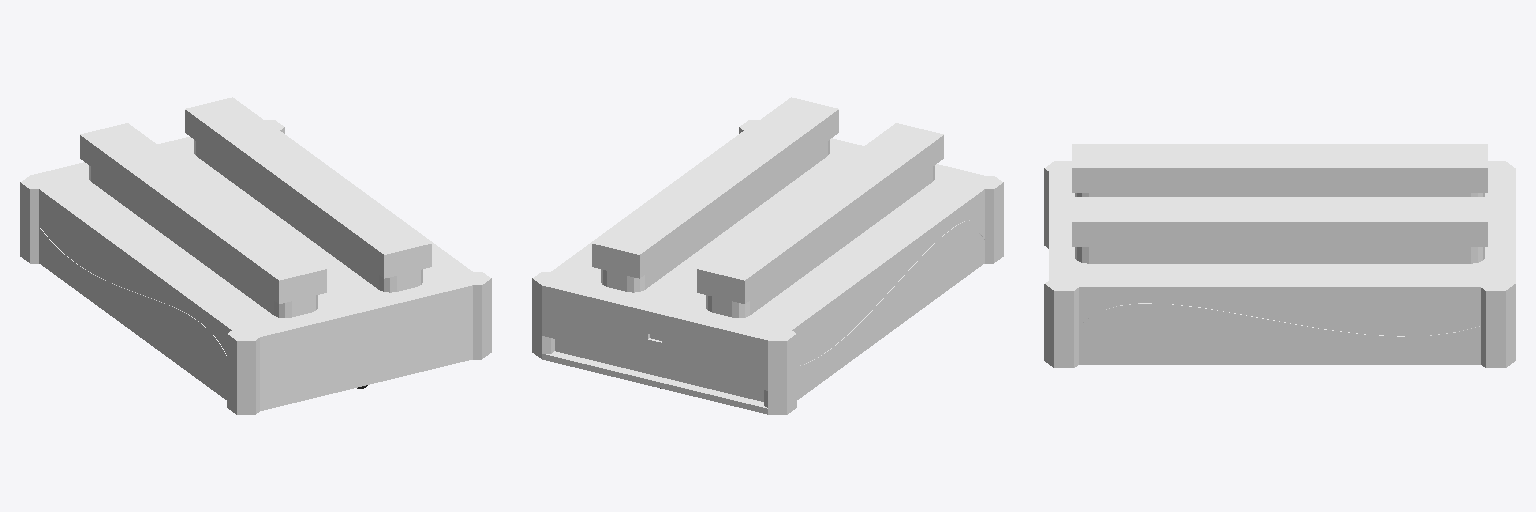
URDF robot description (robot_urdf):
<?xml version="1.0" encoding="utf-8"?>
<!-- This URDF was automatically created by SolidWorks to URDF Exporter! Originally created by [author] ([email redacted]) 
     Commit Version: 1.5.1-0-g916b5db  Build Version: 1.5.7152.31018
     For more information, please see http://wiki.ros.org/sw_urdf_exporter -->
<robot
  name="robot_urdf">
  <link
    name="base_link">
    <inertial>
      <origin
        xyz="-0.022501 0.03264 0.1665"
        rpy="0 0 0" />
      <mass
        value="75.231" />
      <inertia
        ixx="14.838"
        ixy="0.0052526"
        ixz="-0.0049976"
        iyy="6.8"
        iyz="0.060805"
        izz="19.798" />
    </inertial>
    <visual>
      <origin
        xyz="0 0 0"
        rpy="0 0 0" />
      <geometry>
        <mesh
          filename="package://robot_urdf/meshes/base_Link.dae" />
      </geometry>
      <material
        name="">
        <color
          rgba="1 1 1 1" />
      </material>
    </visual>
    <collision>
      <origin
        xyz="0 0 0"
        rpy="0 0 0" />
      <geometry>
        <mesh
          filename="package://robot_urdf/meshes/base_Link.dae" />
      </geometry>
    </collision>
  </link>
  <link
    name="R_W_Link">
    <inertial>
      <origin
        xyz="0 0 0.075"
        rpy="0 0 0" />
      <mass
        value="3.6702" />
      <inertia
        ixx="0.012253"
        ixy="4.3368E-19"
        ixz="2.8934E-19"
        iyy="0.012253"
        iyz="-1.3989E-19"
        izz="0.018211" />
    </inertial>
    <visual>
      <origin
        xyz="0 0 0"
        rpy="0 0 0" />
      <geometry>
        <mesh
          filename="package://robot_urdf/meshes/R_W_Link.STL" />
      </geometry>
      <material
        name="">
        <color
          rgba="0.29804 0.29804 0.29804 1" />
      </material>
    </visual>
    <collision>
      <origin
        xyz="0 0 0"
        rpy="0 0 0" />
      <geometry>
        <mesh
          filename="package://robot_urdf/meshes/R_W_Link.STL" />
      </geometry>
    </collision>
  </link>
  <joint
    name="R_W"
    type="continuous">
    <origin
      xyz="0.20256 0.015054 0.1"
      rpy="1.5708 0.47816 1.5708" />
    <parent
      link="base_link" />
    <child
      link="R_W_Link" />
    <axis
      xyz="0 0 -1" />
  </joint>
  <link
    name="L_W_Link">
    <inertial>
      <origin
        xyz="4.1633E-17 -3.1225E-17 -0.075"
        rpy="0 0 0" />
      <mass
        value="3.6702" />
      <inertia
        ixx="0.012253"
        ixy="-4.3368E-19"
        ixz="8.5115E-19"
        iyy="0.012253"
        iyz="3.4366E-19"
        izz="0.018211" />
    </inertial>
    <visual>
      <origin
        xyz="0 0 0"
        rpy="0 0 0" />
      <geometry>
        <mesh
          filename="package://robot_urdf/meshes/L_W_Link.STL" />
      </geometry>
      <material
        name="">
        <color
          rgba="0.29804 0.29804 0.29804 1" />
      </material>
    </visual>
    <collision>
      <origin
        xyz="0 0 0"
        rpy="0 0 0" />
      <geometry>
        <mesh
          filename="package://robot_urdf/meshes/L_W_Link.STL" />
      </geometry>
    </collision>
  </link>
  <joint
    name="L_W"
    type="continuous">
    <origin
      xyz="-0.24744 0.015054 0.1"
      rpy="1.5708 1.3637 1.5708" />
    <parent
      link="base_link" />
    <child
      link="L_W_Link" />
    <axis
      xyz="0 0 -1" />
  </joint>
  <link
    name="F_B_Link">
    <inertial>
      <origin
        xyz="0.0067551 0.00073425 0.024059"
        rpy="0 0 0" />
      <mass
        value="0.075869" />
      <inertia
        ixx="1.8967E-05"
        ixy="3.7058E-22"
        ixz="0"
        iyy="1.8967E-05"
        iyz="0"
        izz="1.8967E-05" />
    </inertial>
    <visual>
      <origin
        xyz="0 0 0"
        rpy="0 0 0" />
      <geometry>
        <mesh
          filename="package://robot_urdf/meshes/F_B_Link.STL" />
      </geometry>
      <material
        name="">
        <color
          rgba="0.29804 0.29804 0.29804 1" />
      </material>
    </visual>
    <collision>
      <origin
        xyz="0 0 0"
        rpy="0 0 0" />
      <geometry>
        <mesh
          filename="package://robot_urdf/meshes/F_B_Link.STL" />
      </geometry>
    </collision>
  </link>
  <joint
    name="F_B"
    type="fixed">
    <origin
      xyz="-0.022436 0.65449 0"
      rpy="0.03051 -0.2736 -0.024957" />
    <parent
      link="base_link" />
    <child
      link="F_B_Link" />
    <axis
      xyz="0.2702 0.02937 0.96236" />
  </joint>
  <link
    name="B_B_Link">
    <inertial>
      <origin
        xyz="0.0022702 0.0049124 0.024407"
        rpy="0 0 0" />
      <mass
        value="0.075869" />
      <inertia
        ixx="1.8967E-05"
        ixy="1.8529E-22"
        ixz="-1.0588E-22"
        iyy="1.8967E-05"
        iyz="-1.0588E-21"
        izz="1.8967E-05" />
    </inertial>
    <visual>
      <origin
        xyz="0 0 0"
        rpy="0 0 0" />
      <geometry>
        <mesh
          filename="package://robot_urdf/meshes/B_B_Link.STL" />
      </geometry>
      <material
        name="">
        <color
          rgba="0.29804 0.29804 0.29804 1" />
      </material>
    </visual>
    <collision>
      <origin
        xyz="0 0 0"
        rpy="0 0 0" />
      <geometry>
        <mesh
          filename="package://robot_urdf/meshes/B_B_Link.STL" />
      </geometry>
    </collision>
  </link>
  <joint
    name="B_B"
    type="fixed">
    <origin
      xyz="-0.022436 -0.62438 0"
      rpy="0.19862 -0.090934 0.1036" />
    <parent
      link="base_link" />
    <child
      link="B_B_Link" />
    <axis
      xyz="0.090809 0.1965 0.97629" />
  </joint>
  <link
    name="PISTON_Link">
    <inertial>
      <origin
        xyz="-1.7347E-17 1.3357E-16 0.055782"
        rpy="0 0 0" />
      <mass
        value="14.212" />
      <inertia
        ixx="1.9521"
        ixy="1.0607E-16"
        ixz="-2.6529E-18"
        iyy="0.066675"
        iyz="-4.5969E-17"
        izz="2.0018" />
    </inertial>
    <visual>
      <origin
        xyz="0 0 0"
        rpy="0 0 0" />
      <geometry>
        <mesh
          filename="package://robot_urdf/meshes/PISTON_Link.dae" />
      </geometry>
      <material
        name="">
        <color
          rgba="1 1 1 1" />
      </material>
    </visual>
    <collision>
      <origin
        xyz="0 0 0"
        rpy="0 0 0" />
      <geometry>
        <mesh
          filename="package://robot_urdf/meshes/PISTON_Link.dae" />
      </geometry>
    </collision>
  </link>
  <joint
    name="PISTON"
    type="prismatic">
    <origin
      xyz="-0.022436 0.015054 0.335"
      rpy="0 0 0" />
    <parent
      link="base_link" />
    <child
      link="PISTON_Link" />
    <axis
      xyz="0 0 1" />
    <limit
      lower="-0.06"
      upper="0.05"
      effort="1000E+06"
      velocity="1000E+06" />
  </joint>
  <link
    name="F_Grip_Link">
    <inertial>
      <origin
        xyz="-2.498E-16 -2.4321E-15 0.075"
        rpy="0 0 0" />
      <mass
        value="3" />
      <inertia
        ixx="0.0057813"
        ixy="-2.7064E-19"
        ixz="-4.3946E-19"
        iyy="0.008125"
        iyz="-4.4046E-19"
        izz="0.0026563" />
    </inertial>
    <visual>
      <origin
        xyz="0 0 0"
        rpy="0 0 0" />
      <geometry>
        <mesh
          filename="package://robot_urdf/meshes/F_Grip_Link.STL" />
      </geometry>
      <material
        name="">
        <color
          rgba="1 1 1 1" />
      </material>
    </visual>
    <collision>
      <origin
        xyz="0 0 0"
        rpy="0 0 0" />
      <geometry>
        <mesh
          filename="package://robot_urdf/meshes/F_Grip_Link.STL" />
      </geometry>
    </collision>
  </link>
  <joint
    name="F_Grip"
    type="prismatic">
    <origin
      xyz="-0.022436 0.015054 0.125"
      rpy="0 0 0" />
    <parent
      link="base_link" />
    <child
      link="F_Grip_Link" />
    <axis
      xyz="0 0 1" />
    <limit
      lower="0"
      upper="0.20"
      effort="1E+06"
      velocity="1E+06" />
  </joint>
  <!--gazebo differantial drive plugin-->
 <gazebo>
   <plugin name="differential_drive_controller" filename="libgazebo_ros_diff_drive.so">
    <updateRate>50</updateRate>
    <leftJoint>L_W</leftJoint>  
    <rightJoint>R_W</rightJoint>
    <wheelSeparation>0.6</wheelSeparation>
    <wheelDiameter>0.2</wheelDiameter>
    <wheelAcceleration>50.0</wheelAcceleration>
    <wheelTorque>500</wheelTorque>
    <commandTopic>cmd_vel</commandTopic>
    <odometryTopic>odom</odometryTopic>
    <odometryFrame>odom</odometryFrame>
    <robotBaseFrame>base_link</robotBaseFrame>
    <odometrySource>world</odometrySource>
    <publishWheelTF>false</publishWheelTF>
    <publishOdom>true</publishOdom>
    <publishWheelJointState>true</publishWheelJointState>
    <legacyMode>false</legacyMode>
    <rosDebugLevel>na</rosDebugLevel>
    <publishOdomTF>true</publishOdomTF>

  </plugin>
</gazebo>
<gazebo reference ="L_W_Link">
    <mu1>1000</mu1>
    <mu2>1000</mu2>
  </gazebo>
  <gazebo reference ="R_W_Link">
    <mu1>1000</mu1>
    <mu2>1000</mu2>
  </gazebo>
   <gazebo reference ="F_B_Link">
    <mu1>0.1</mu1>
    <mu2>0.1</mu2>
  </gazebo>
  <gazebo reference ="B_B_Link">
    <mu1>0.1</mu1>
    <mu2>0.1</mu2>
  </gazebo>

  <!--transmission 1 piston accutator-->
<transmission name="tran1">
    <type>transmission_interface/SimpleTransmission</type>
    <joint name="PISTON">
      <hardwareInterface>hardware_interface/EffortJointInterface</hardwareInterface>
    </joint>
    <actuator name="motor1">
      <hardwareInterface>hardware_interface/EffortJointInterface</hardwareInterface>
      <mechanicalReduction>1</mechanicalReduction>
    </actuator>
  </transmission>

<!--transmission 2 blockers accutator-->
  <transmission name="tran2">
    <type>transmission_interface/SimpleTransmission</type>
    <joint name="F_Grip">
      <hardwareInterface>hardware_interface/EffortJointInterface</hardwareInterface>
    </joint>
    <actuator name="motor2">
      <hardwareInterface>hardware_interface/EffortJointInterface</hardwareInterface>
      <mechanicalReduction>1</mechanicalReduction>
    </actuator>
  </transmission>
<!--Gazebo plugin for ros_control-->
<gazebo>
  <plugin name="gazebo_ros_control" filename="libgazebo_ros_control.so">
    <robotSimType>gazebo_ros_control/DefaultRobotHWSim</robotSimType>
  </plugin>
</gazebo>

</robot>

--- Render facts (derived) ---
3 views of the same robot in one strip: view 1: azimuth 30°, elevation 25°; view 2: azimuth 150°, elevation 25°; view 3: azimuth 270°, elevation 25° (orthographic).
Robot: robot_urdf — 7 links, 6 joints (2 continuous, 2 prismatic, 2 fixed); root link base_link; default pose: all joints at 0.
Visible links, largest first — view 1: base_link, PISTON_Link; view 2: base_link, PISTON_Link; view 3: base_link, PISTON_Link.
Boxes of the visible links, left/top/right/bottom form: base_link: left=20, top=120, right=491, bottom=414; PISTON_Link: left=80, top=97, right=431, bottom=303; base_link: left=532, top=120, right=1003, bottom=414; PISTON_Link: left=592, top=97, right=943, bottom=303; base_link: left=1044, top=161, right=1515, bottom=367; PISTON_Link: left=1072, top=144, right=1487, bottom=246.
Size in the robot's own frame: 0.8995 by 1.38 by 0.415 metres.
7 mesh visuals loaded from 7 distinct referenced files (5 binary STL, 2 Collada DAE).
